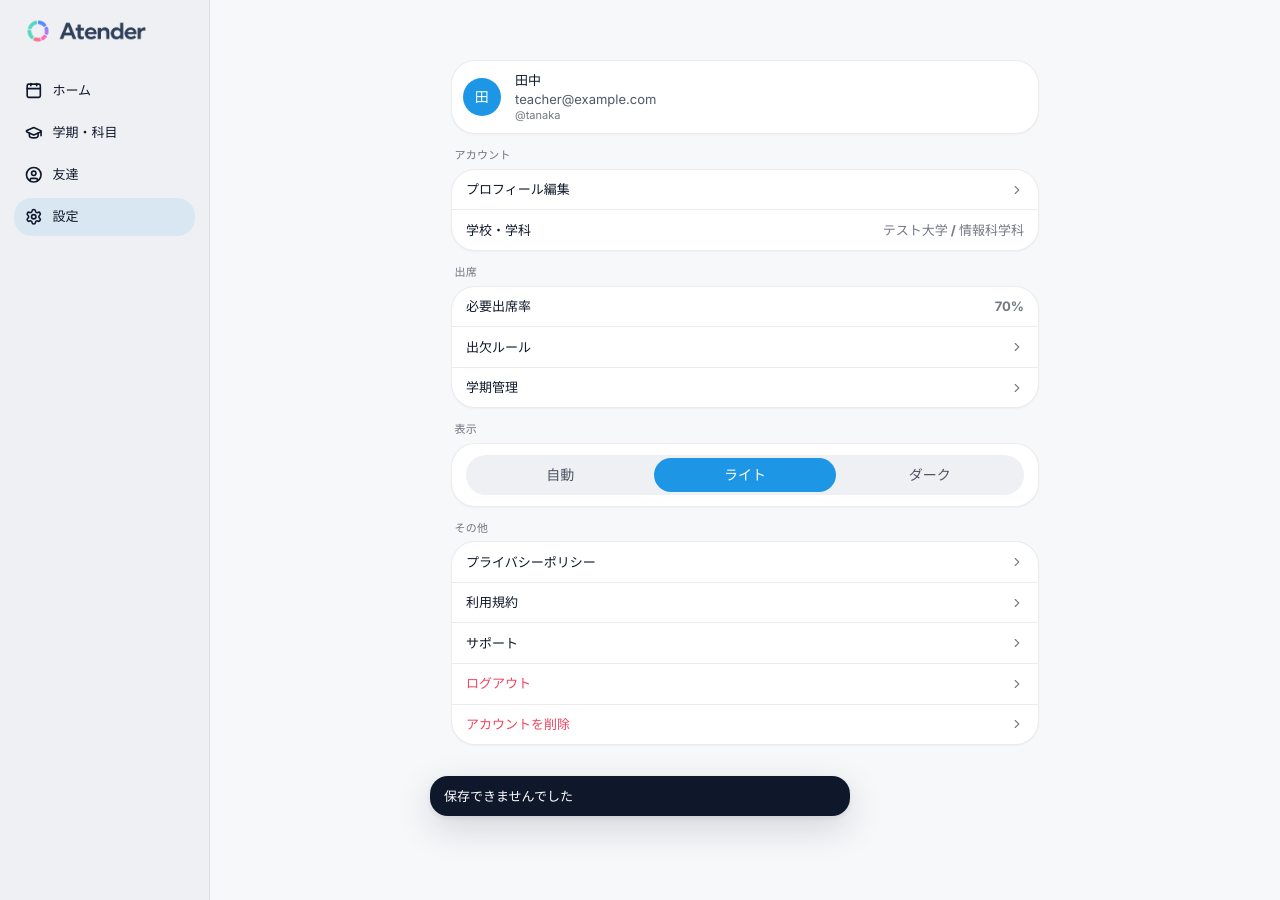
it: [T] E4: browser after changing school/department › [T17a] browser opens with banner; 戻る returns to the school sheet
The width and height of the screenshot is (1280, 900).
Click the text "学校・学科": (498, 230) x1=466 y1=221 x2=531 y2=240
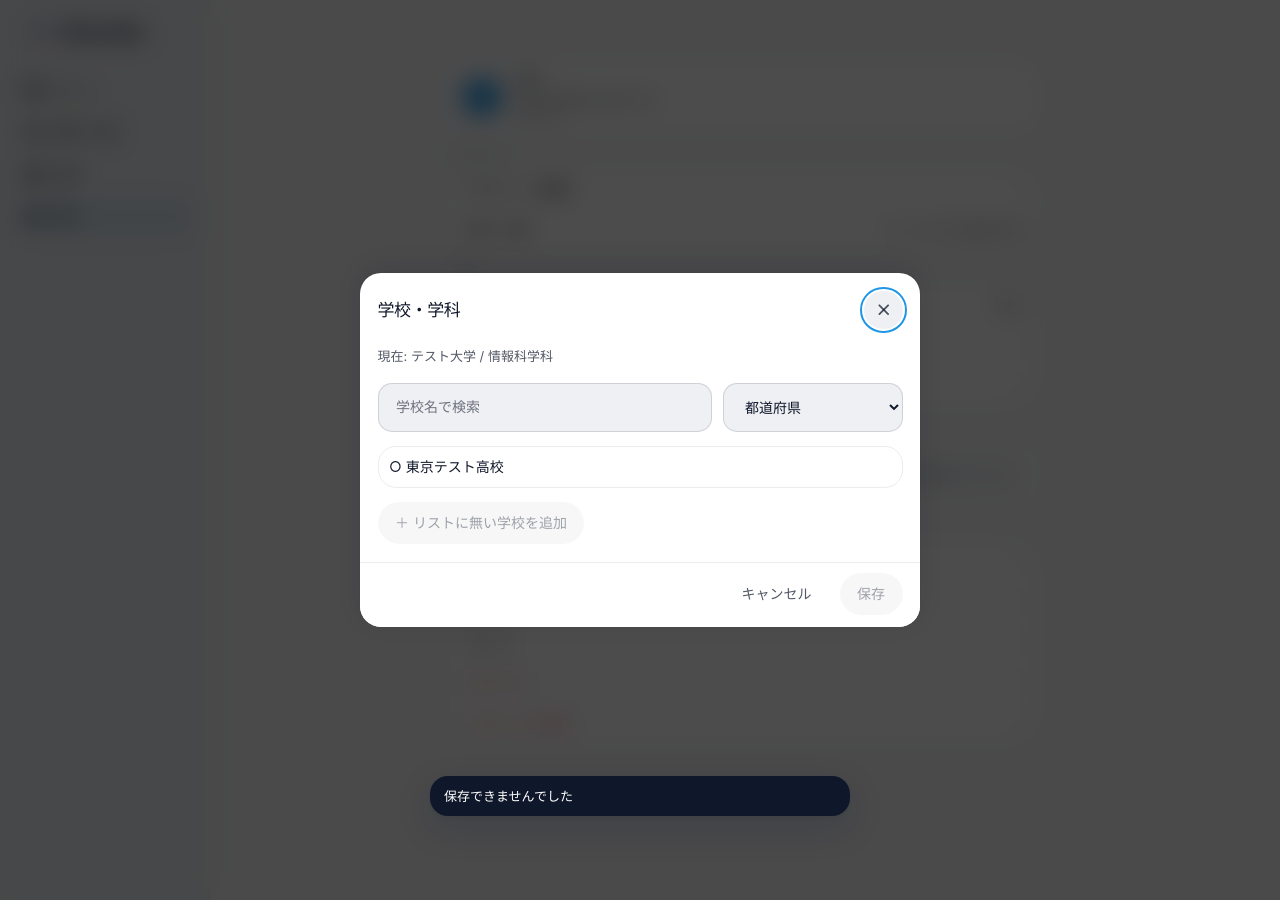
Click the button "○ 東京テスト高校": (455, 466) x1=378 y1=446 x2=902 y2=488
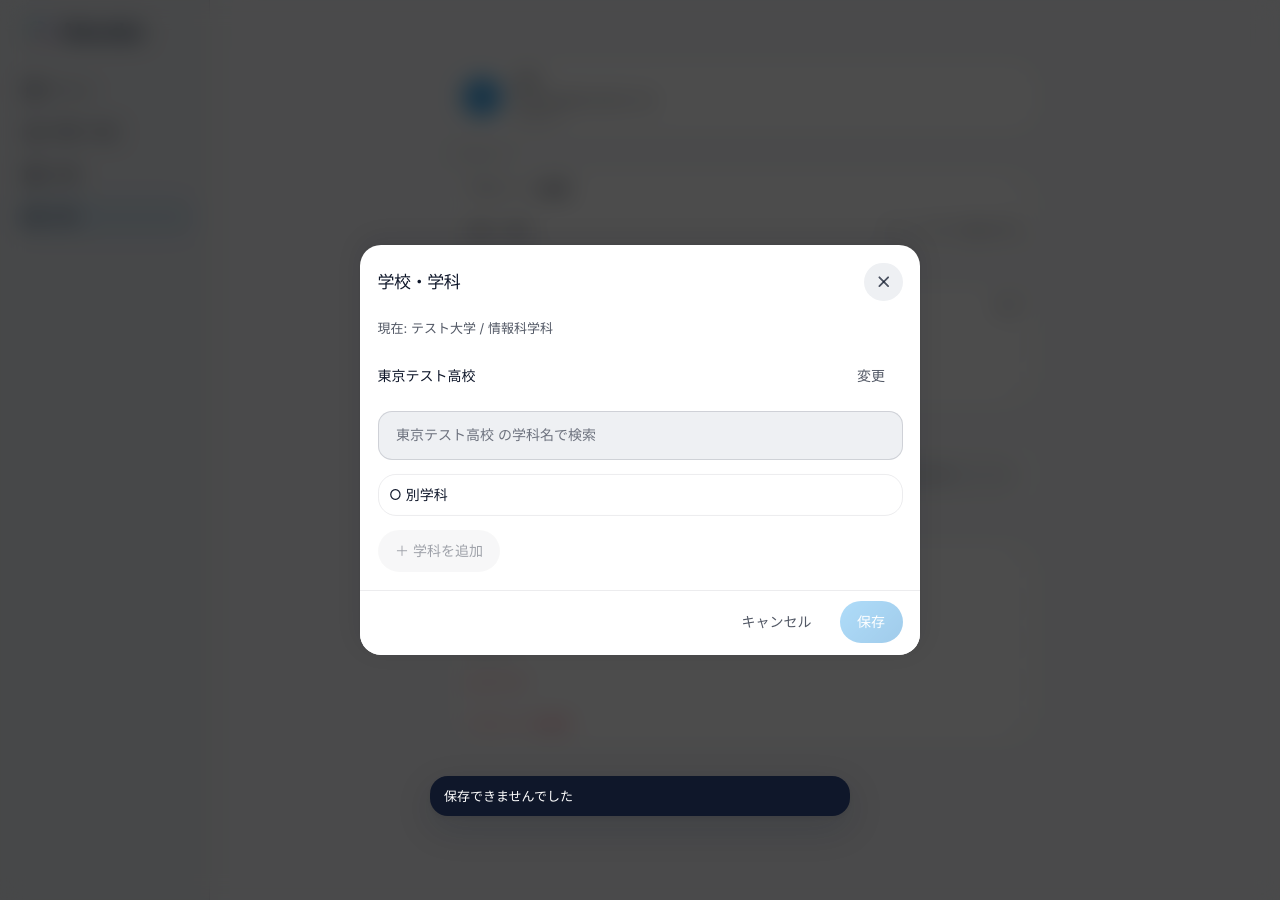
Click the button "○ 別学科": (427, 494) x1=378 y1=474 x2=902 y2=516
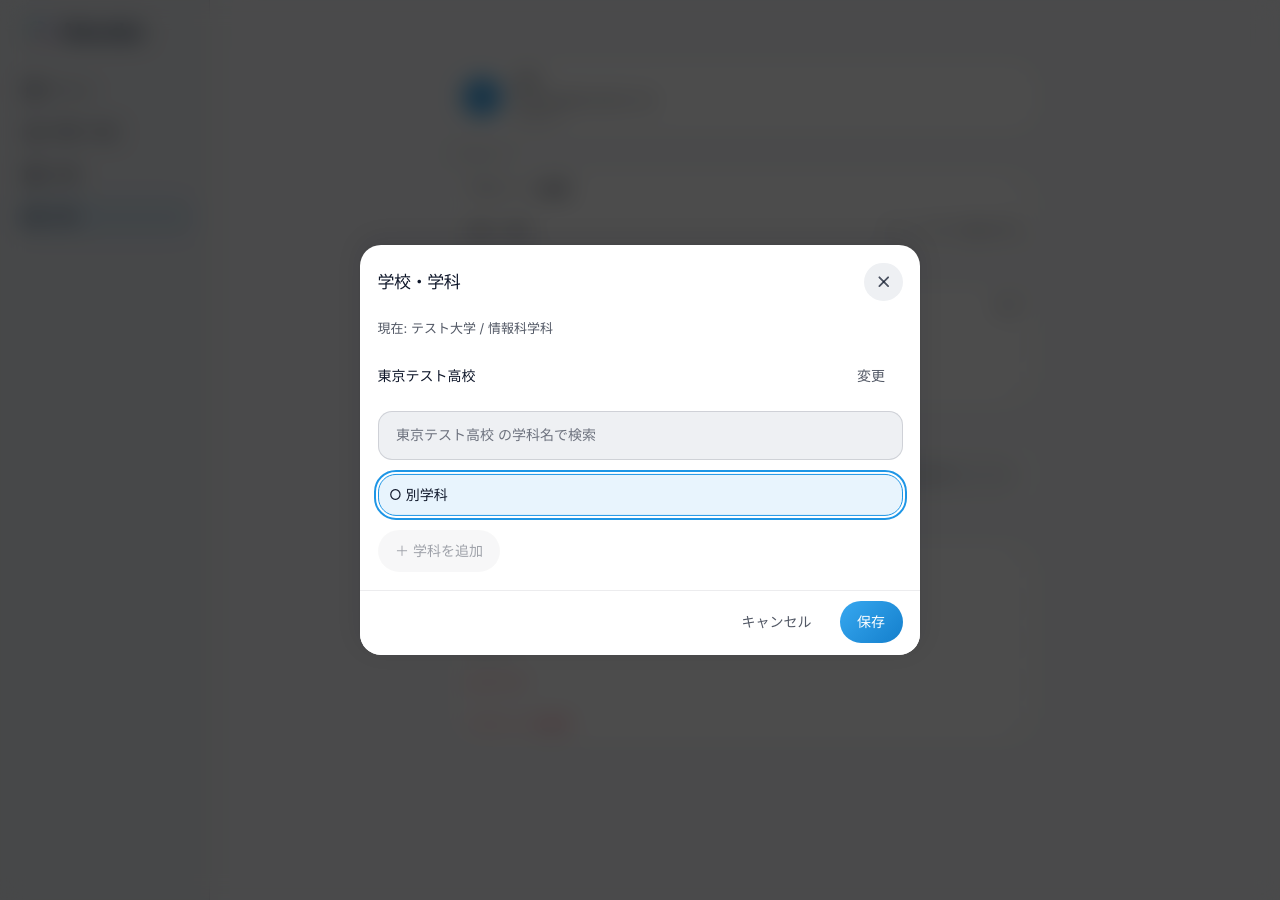
Expected: the button "保存" is enabled
Click the button "保存": (871, 622) x1=840 y1=601 x2=902 y2=643
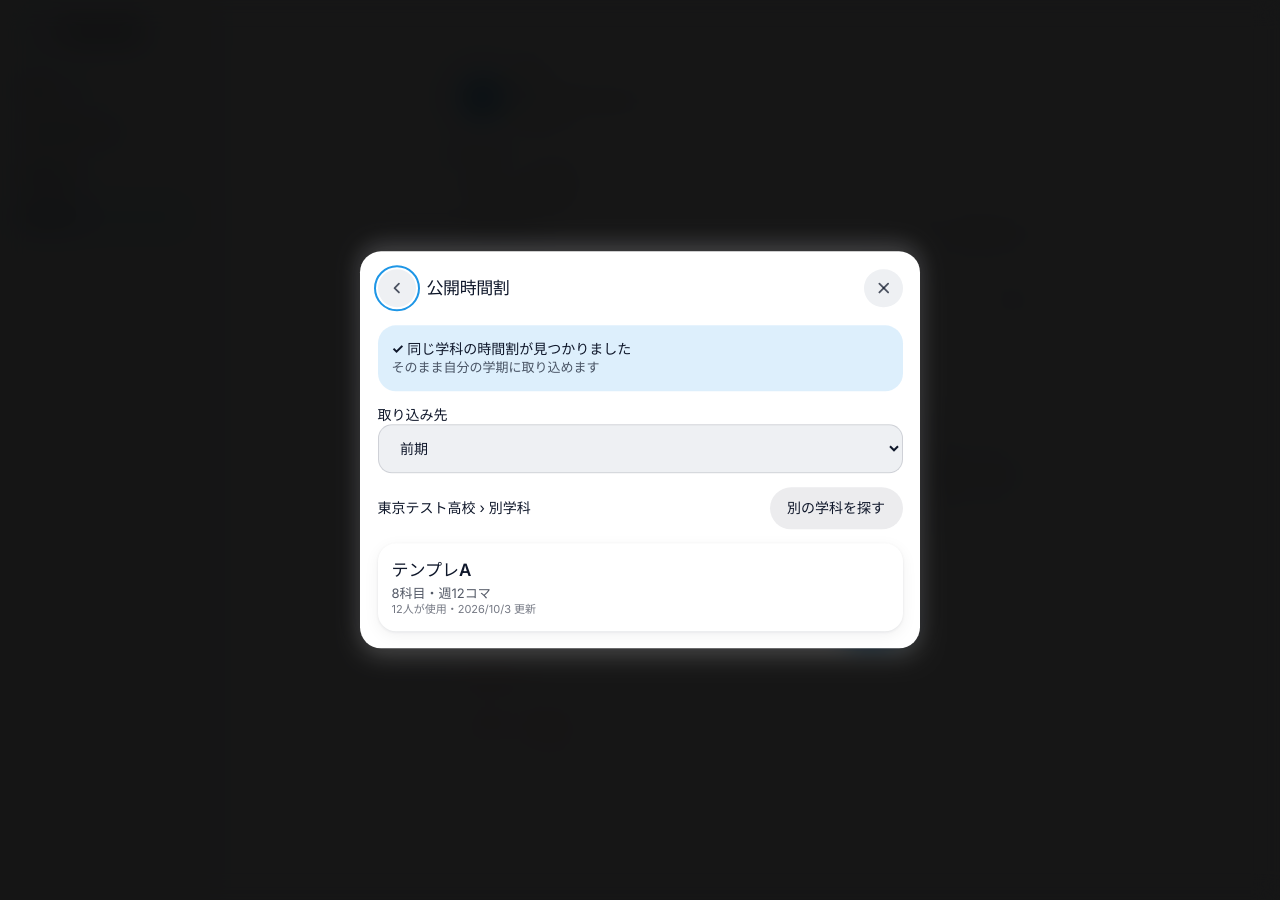
Expected: the text "✓ 同じ学科の時間割が見つかりました" is shown, x1=392 y1=340 x2=631 y2=357
Expected: the heading "公開時間割" is shown, x1=426 y1=275 x2=509 y2=301
Click the button named "戻る": (397, 288) x1=378 y1=269 x2=416 y2=307
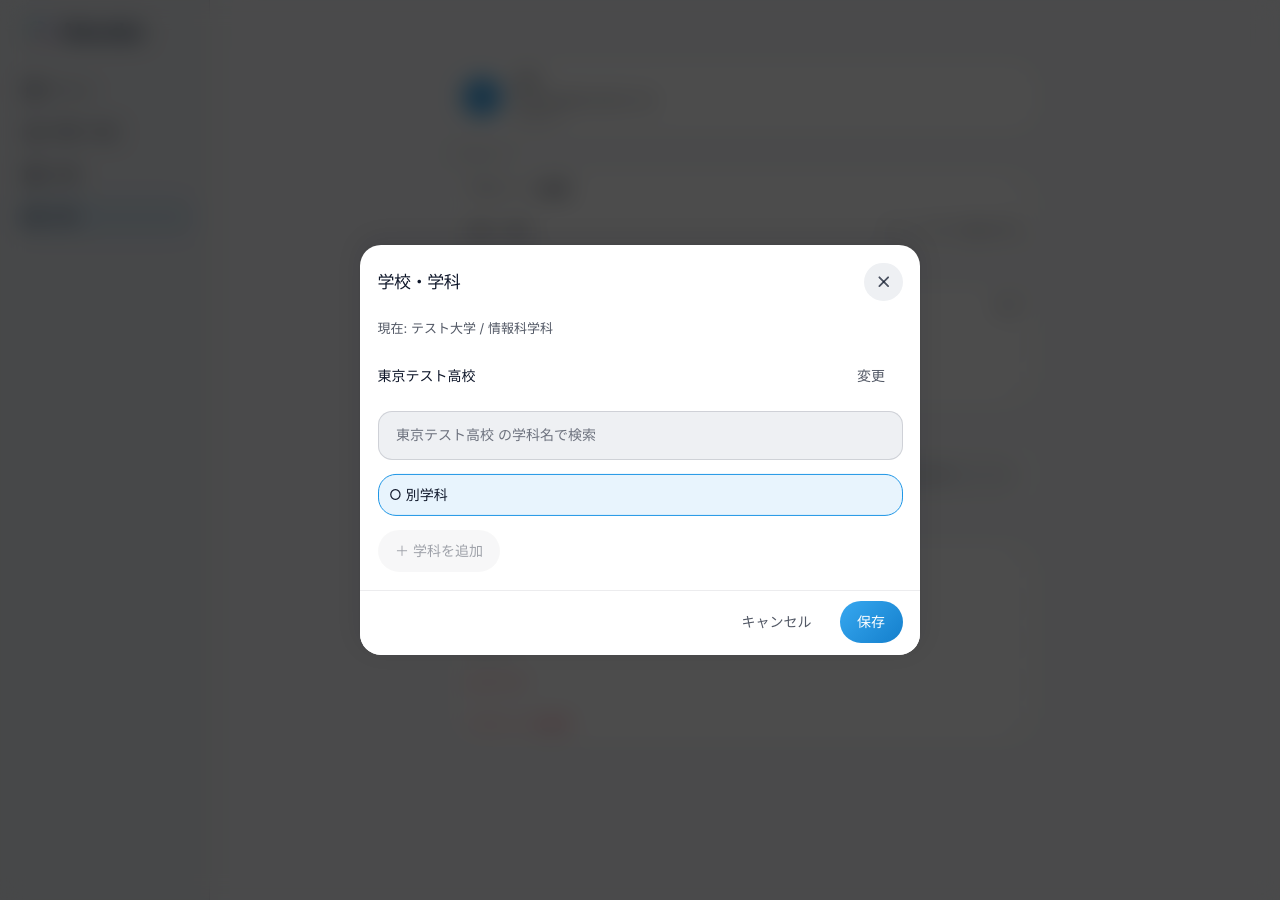
Expected: the heading "学校・学科" is shown, x1=378 y1=268 x2=460 y2=295
Expected: the heading "公開時間割" is gone
